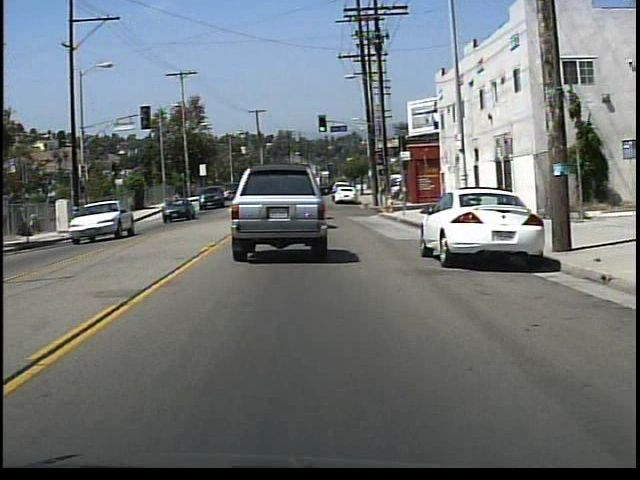car: (420, 179, 546, 269), (228, 165, 329, 262), (66, 198, 136, 242), (162, 193, 194, 223), (332, 182, 363, 205), (199, 182, 220, 211)
